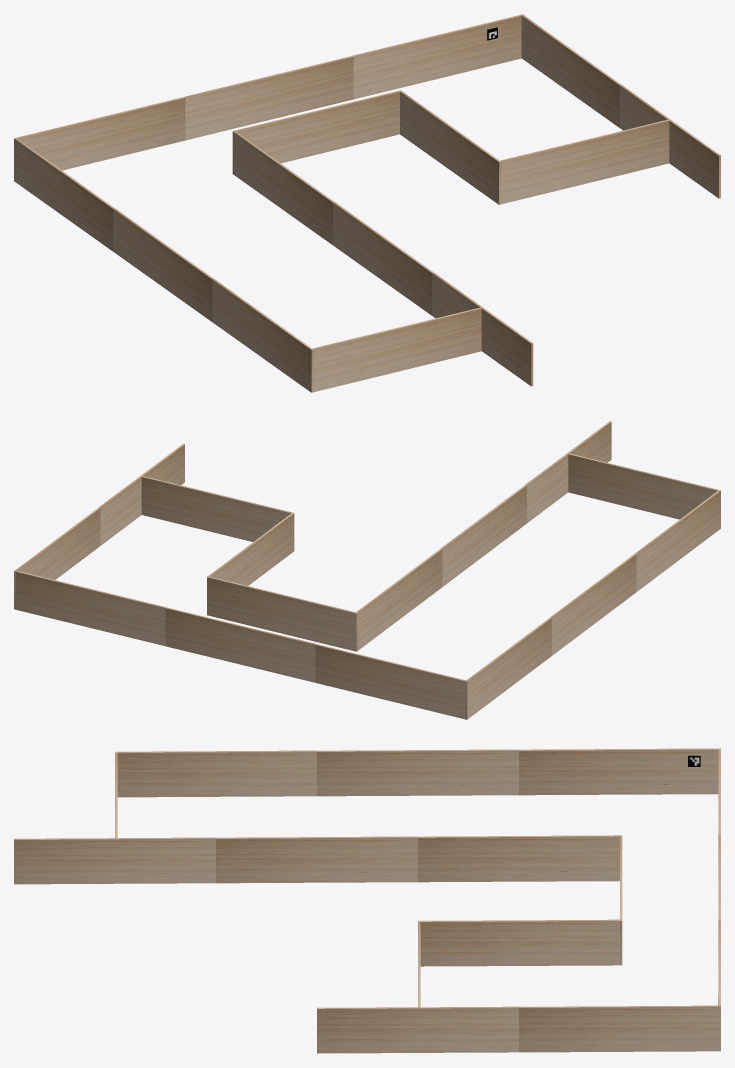
Rendered from laberinto.dae.
3 views of the same model, one above another, from view 1: azimuth 30°, elevation 25°; view 2: azimuth 150°, elevation 25°; view 3: azimuth 270°, elevation 25° (orthographic). The views are drawn at different scales.
Visible parts, largest first — view 1: ad3f1bdd-18d4-4199-9a41-558c8f6fe055, f6433ee0-36ef-4385-bef0-9bce4d07849f, e2342363-d344-4846-ad33-018c59a4ecde, a85e506b-1d44-46ee-aa03-eb27b38c6711, af842563-9cec-45f7-aa9a-e841945f77ce, f390fc9c-0cc2-4022-aa6b-6d4ff2daf2ea, ddb43918-6c6a-4c30-a354-7789f1dfb631, acba8855-d1ce-4ed0-8794-5bed1b61671c, ae065d6d-c94b-495c-af12-77be301c9b0d, ac4b4a72-5abd-4dca-9f52-4ec922c97c69, a583e28f-310d-44a7-a094-79d32a47f2ea, f8bf388d-90cc-4a6c-b397-1ccb639aee98 (+3 smaller); view 2: dcf875ee-1b18-45a3-b82d-89043c1bf835, a84d4aad-2ad6-437d-ae78-c37381b06b58, a8c5a97c-7eba-411f-9bd2-7887f14173a0, a6a57338-f115-4166-a83c-d4232c53687b, dbcfbf16-1901-4569-acf1-10ae4f09a0cf, a3fd9020-4e45-4f1e-81df-e3f88e4b8550, a583e28f-310d-44a7-a094-79d32a47f2ea, ae065d6d-c94b-495c-af12-77be301c9b0d, acba8855-d1ce-4ed0-8794-5bed1b61671c, ac4b4a72-5abd-4dca-9f52-4ec922c97c69, ddb43918-6c6a-4c30-a354-7789f1dfb631, f8bf388d-90cc-4a6c-b397-1ccb639aee98 (+3 smaller); view 3: bc1233d9-a9ce-4e05-916f-1743ae5433ce, ad92fa3e-0e38-4980-8e98-311ce48f12ff, a5c56f43-6f82-4744-bfa0-26c1d90ddd51, ac88a2b2-c3b6-4934-8ba3-f3bc242aa70b, a54e32e6-1d13-4ce5-b00d-75c4bf51eb83, b88a6ae6-a49f-4b1c-a620-7d336855b940, aaaf5e34-749a-495f-abe3-fe6c0b5e8f05, a0021f96-4e01-4131-81aa-087f91e6b691, ad66712b-388b-4989-9987-9cea836dfced.
Boxes of the visible parts, x1,y1,x2,y2 form: ad3f1bdd-18d4-4199-9a41-558c8f6fe055: (185,56,353,140); f6433ee0-36ef-4385-bef0-9bce4d07849f: (313,308,481,391); e2342363-d344-4846-ad33-018c59a4ecde: (501,120,669,204); a85e506b-1d44-46ee-aa03-eb27b38c6711: (353,15,521,99); af842563-9cec-45f7-aa9a-e841945f77ce: (18,98,185,170); f390fc9c-0cc2-4022-aa6b-6d4ff2daf2ea: (236,91,399,163); ddb43918-6c6a-4c30-a354-7789f1dfb631: (14,138,113,251); acba8855-d1ce-4ed0-8794-5bed1b61671c: (333,203,432,315); ae065d6d-c94b-495c-af12-77be301c9b0d: (113,209,212,321); ac4b4a72-5abd-4dca-9f52-4ec922c97c69: (212,279,311,392); a583e28f-310d-44a7-a094-79d32a47f2ea: (233,132,332,244); f8bf388d-90cc-4a6c-b397-1ccb639aee98: (400,92,498,204); dcf875ee-1b18-45a3-b82d-89043c1bf835: (165,608,315,682); a84d4aad-2ad6-437d-ae78-c37381b06b58: (315,644,465,719); a8c5a97c-7eba-411f-9bd2-7887f14173a0: (16,571,165,646); a6a57338-f115-4166-a83c-d4232c53687b: (207,577,356,651); dbcfbf16-1901-4569-acf1-10ae4f09a0cf: (141,477,290,541); a3fd9020-4e45-4f1e-81df-e3f88e4b8550: (568,454,717,519); a583e28f-310d-44a7-a094-79d32a47f2ea: (357,549,442,650); ae065d6d-c94b-495c-af12-77be301c9b0d: (551,554,636,655); acba8855-d1ce-4ed0-8794-5bed1b61671c: (442,485,526,586); ac4b4a72-5abd-4dca-9f52-4ec922c97c69: (636,490,720,591); ddb43918-6c6a-4c30-a354-7789f1dfb631: (467,618,551,719); f8bf388d-90cc-4a6c-b397-1ccb639aee98: (210,513,294,585); bc1233d9-a9ce-4e05-916f-1743ae5433ce: (519,1006,720,1052); ad92fa3e-0e38-4980-8e98-311ce48f12ff: (317,750,518,796); a5c56f43-6f82-4744-bfa0-26c1d90ddd51: (14,838,215,884); ac88a2b2-c3b6-4934-8ba3-f3bc242aa70b: (216,837,417,883); a54e32e6-1d13-4ce5-b00d-75c4bf51eb83: (418,836,619,882); b88a6ae6-a49f-4b1c-a620-7d336855b940: (317,1007,518,1053); aaaf5e34-749a-495f-abe3-fe6c0b5e8f05: (117,751,316,797); a0021f96-4e01-4131-81aa-087f91e6b691: (420,921,619,966); ad66712b-388b-4989-9987-9cea836dfced: (519,749,718,795).
Bounding box in the file's own units: 2.44 × 2.8 × 0.195.
4 materials, 4 textured.
